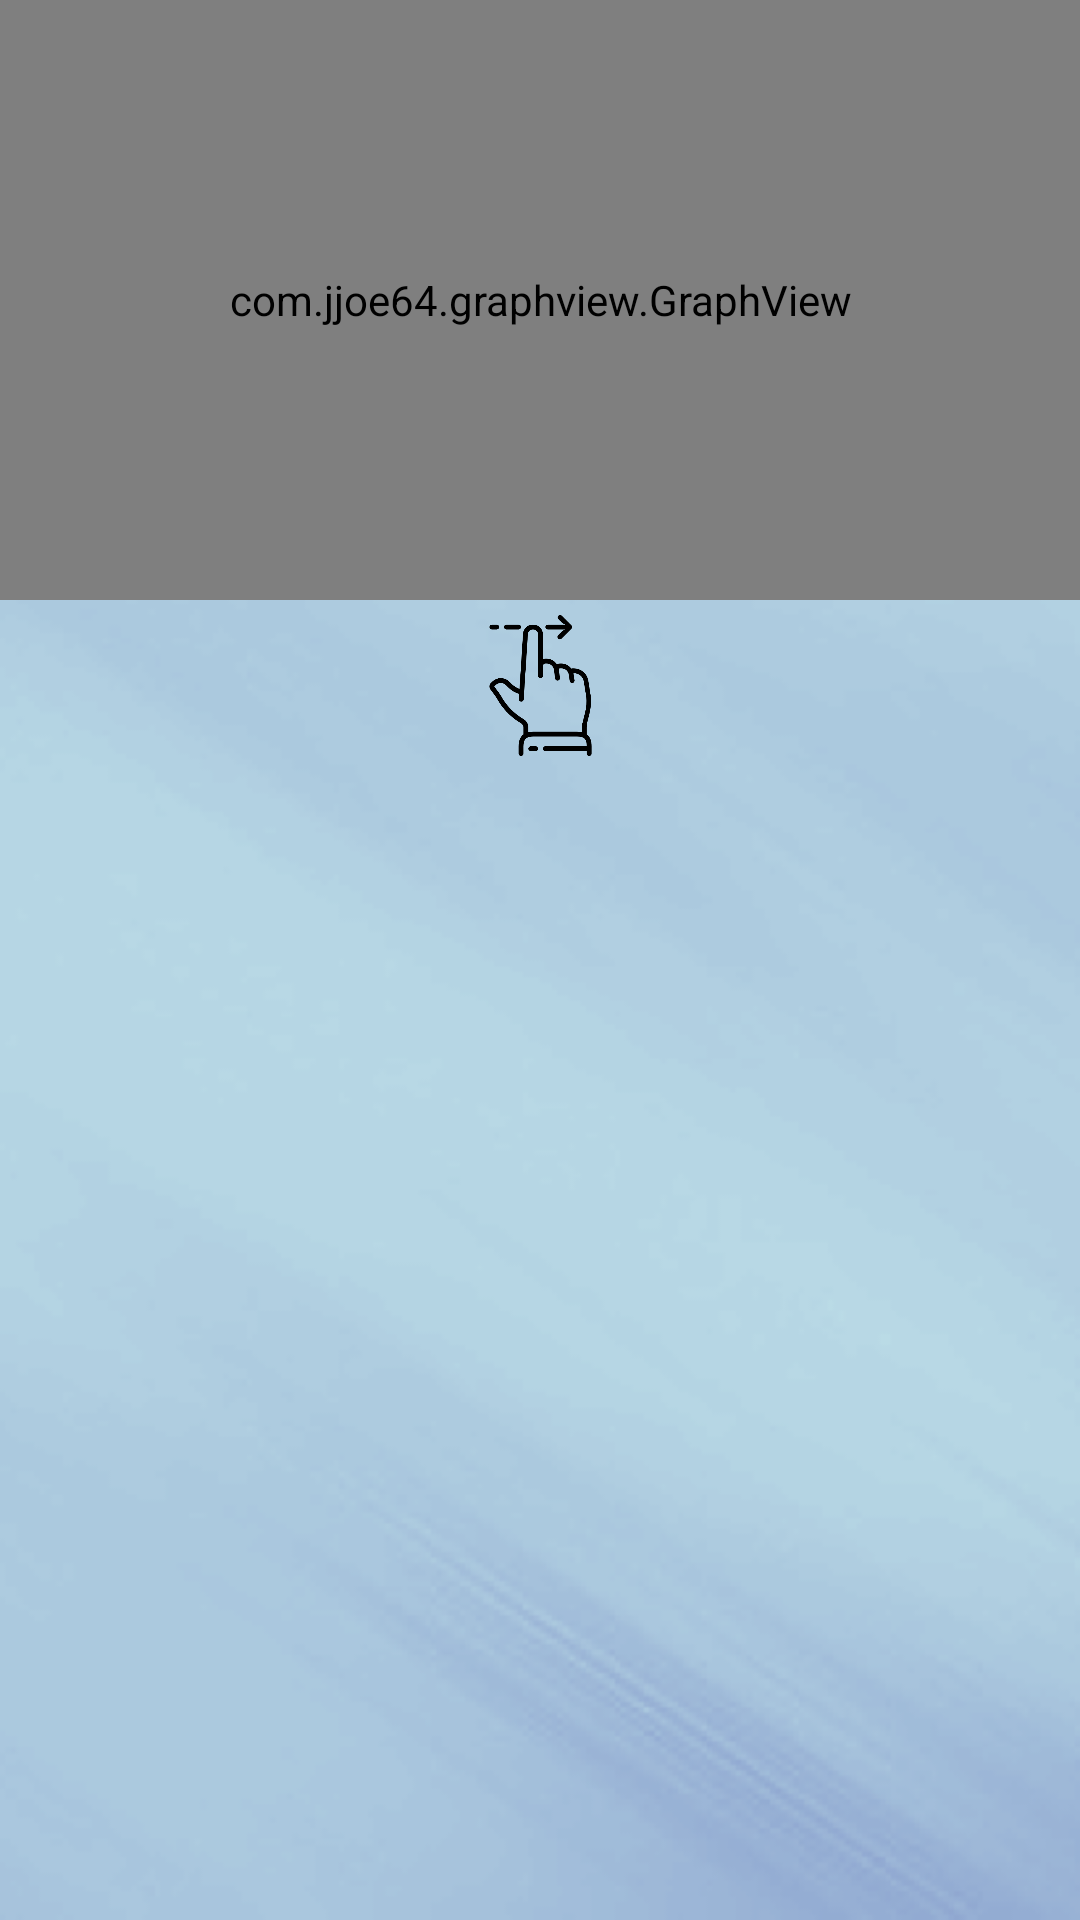

Icon bounding boxes for this 1080px x 1920px phone screenshot, format [x1,y1,x2,y2]:
swipe: [489,615,592,756]
